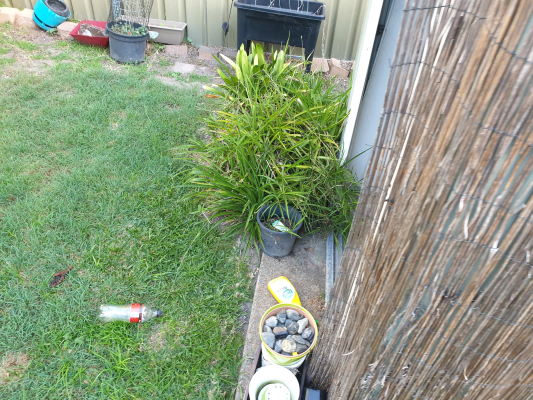Plastic Bottle: (97, 303, 161, 323)
